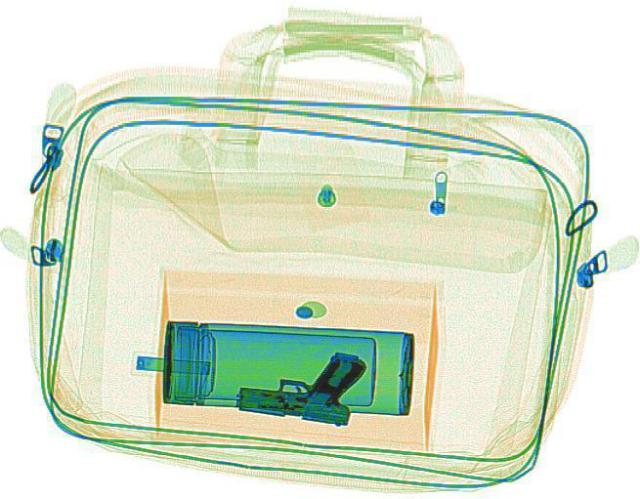Gun: (232, 343, 368, 426)
